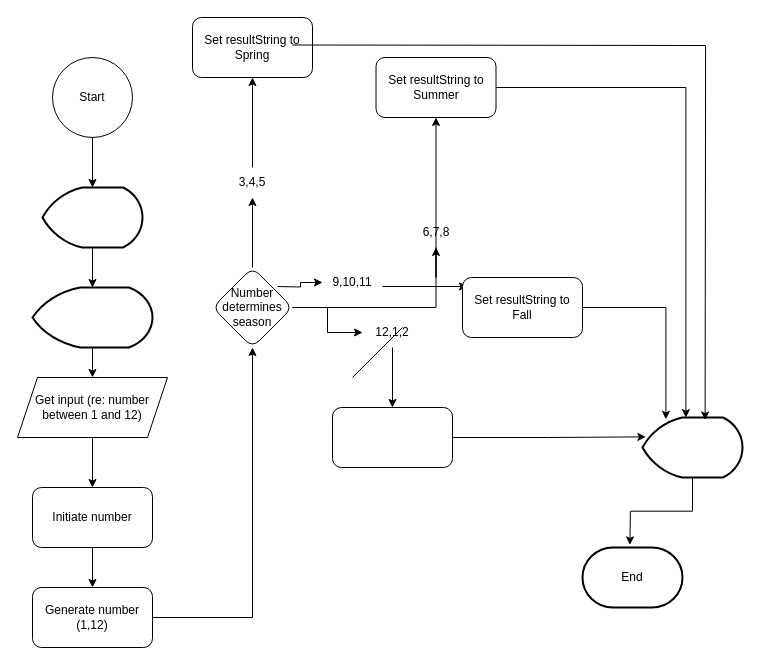
Image size: 761x665. Some labels were removed from this diagram. The centre of each missing label's shape, as x and y in pixels:
"Display resultString" goes at point 692,447.
"Prompt user for number between 1 and 12" goes at point 92,317.
"Set resultString to Winter" goes at point 392,437.
"Welcome message" goes at point 92,217.
